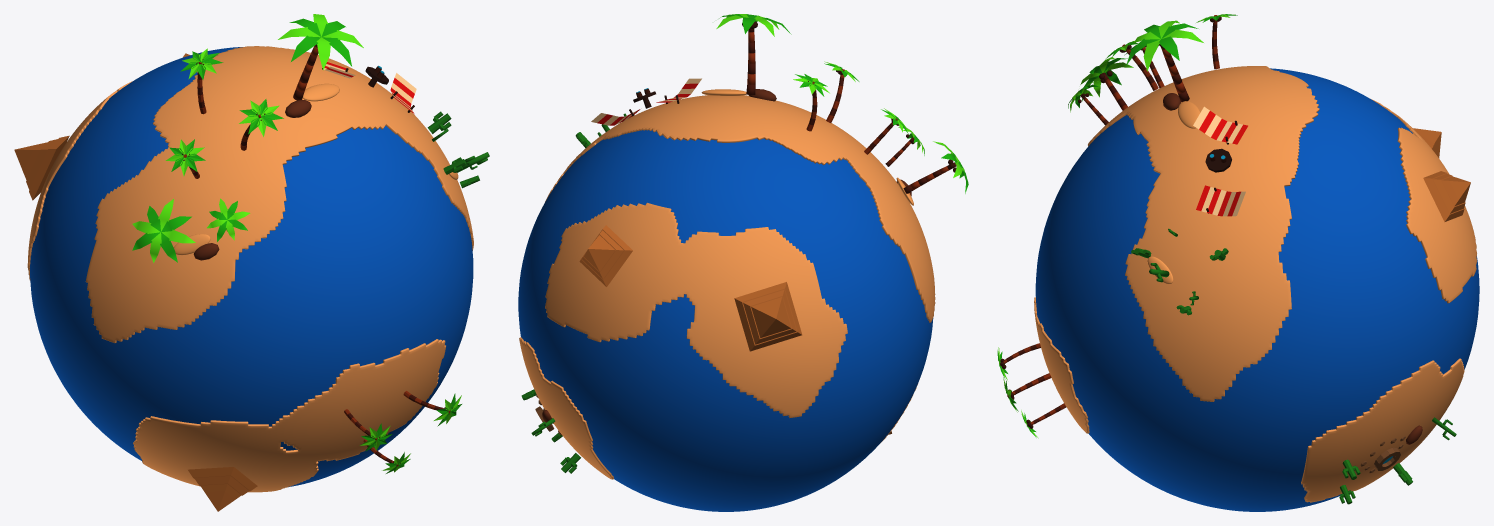
File: oasis.obj
3 views of the same model, side by side, from view 1: azimuth 30°, elevation 25°; view 2: azimuth 150°, elevation 25°; view 3: azimuth 270°, elevation 25° (orthographic). The views are drawn at different scales.
Parts seen in each view (by area): view 1: Planeta_Oasis_Agua, Continentes_Arena_Continuos, Palmera_Central_Hojas, Palmera_Oeste_Hojas, Palmera_Oeste_Joven_Hojas, Piramide_Norte_Oeste_Nivel_1, Piramide_Austral_Nivel_1, Reposera_Chill_02_03_Reposera_Rayada; view 2: Planeta_Oasis_Agua, Continentes_Arena_Continuos, Piramide_Norte_Oeste_Nivel_1, Piramide_Norte_Oeste_Nivel_2, Piramide_Norte_Este_Nivel_1, Piramide_Norte_Oeste_Punta, Palmera_Central_Hojas, Piramide_Norte_Oeste_Nivel_3; view 3: Planeta_Oasis_Agua, Continentes_Arena_Continuos, Palmera_Central_Hojas, Reposera_Chill_02_03_Reposera_Rayada, Reposera_Rayada, Palmera_Oeste_Hojas, Piramide_Norte_Este_Nivel_1.
Part boxes in pixels (box(x1,y1,x2,y2)): Planeta_Oasis_Agua: box(30, 47, 473, 487); Continentes_Arena_Continuos: box(27, 46, 473, 492); Palmera_Central_Hojas: box(278, 14, 363, 70); Palmera_Oeste_Hojas: box(132, 199, 195, 262); Palmera_Oeste_Joven_Hojas: box(207, 198, 250, 241); Piramide_Norte_Oeste_Nivel_1: box(29, 135, 69, 200); Piramide_Austral_Nivel_1: box(188, 467, 257, 491); Reposera_Chill_02_03_Reposera_Rayada: box(390, 73, 416, 113); Planeta_Oasis_Agua: box(518, 130, 933, 511); Continentes_Arena_Continuos: box(519, 95, 935, 479); Piramide_Norte_Oeste_Nivel_1: box(734, 282, 802, 351); Piramide_Norte_Oeste_Nivel_2: box(743, 289, 796, 344); Piramide_Norte_Este_Nivel_1: box(579, 225, 632, 286); Piramide_Norte_Oeste_Punta: box(757, 302, 787, 333); Palmera_Central_Hojas: box(716, 14, 791, 36); Piramide_Norte_Oeste_Nivel_3: box(751, 297, 791, 337); Planeta_Oasis_Agua: box(1035, 68, 1479, 511); Continentes_Arena_Continuos: box(1034, 66, 1476, 502); Palmera_Central_Hojas: box(1126, 20, 1203, 71); Reposera_Chill_02_03_Reposera_Rayada: box(1196, 185, 1245, 216); Reposera_Rayada: box(1193, 106, 1247, 144); Palmera_Oeste_Hojas: box(1080, 57, 1133, 101); Piramide_Norte_Este_Nivel_1: box(1423, 171, 1464, 221).
Size of the model in its own units: 10.03 by 11.75 by 10.86.
